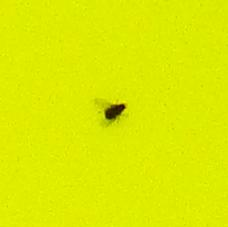Brachycera: (100, 100, 128, 127)
